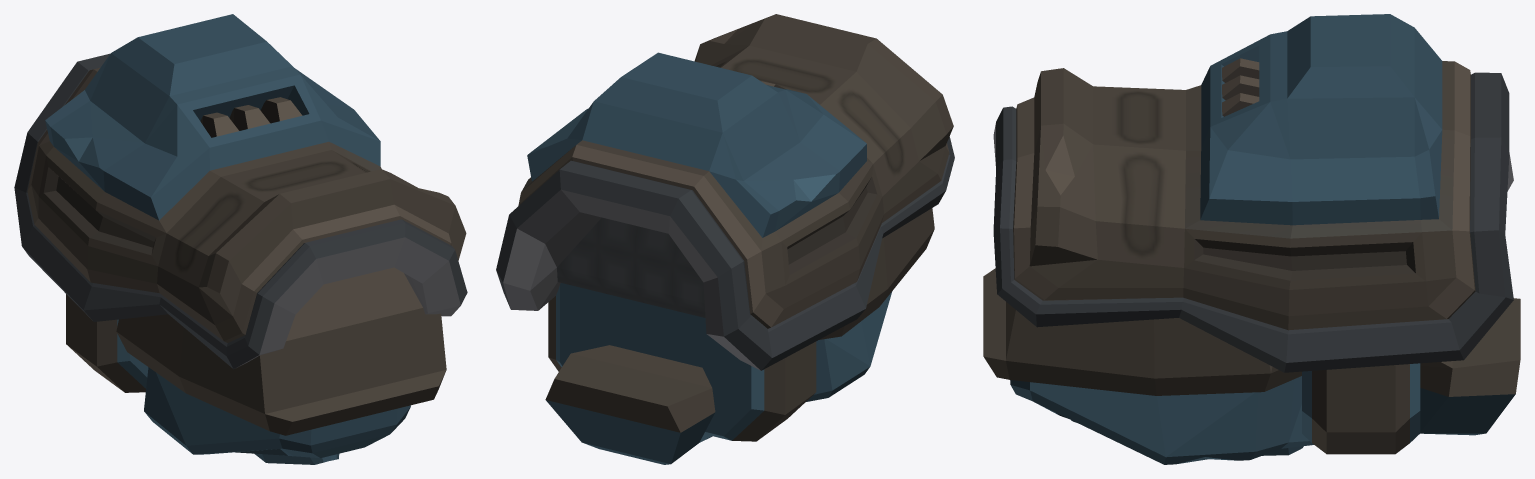
Rendered from SM_Mech_Arm_01_Armor_Forearm_03.fbx.
3 views of the same model, side by side, from view 1: azimuth 30°, elevation 25°; view 2: azimuth 150°, elevation 25°; view 3: azimuth 270°, elevation 25° (orthographic). The views are drawn at different scales.
Parts seen in each view (by area): view 1: SM_Mech_Arm_01_Armor_Forearm_03; view 2: SM_Mech_Arm_01_Armor_Forearm_03; view 3: SM_Mech_Arm_01_Armor_Forearm_03.
Boxes of the visible parts, x1,y1,x2,y2 form: SM_Mech_Arm_01_Armor_Forearm_03: [14, 14, 467, 464]; SM_Mech_Arm_01_Armor_Forearm_03: [496, 14, 954, 464]; SM_Mech_Arm_01_Armor_Forearm_03: [983, 14, 1520, 464].
Bounding box in the file's own units: 61.13 × 71.95 × 85.36.
